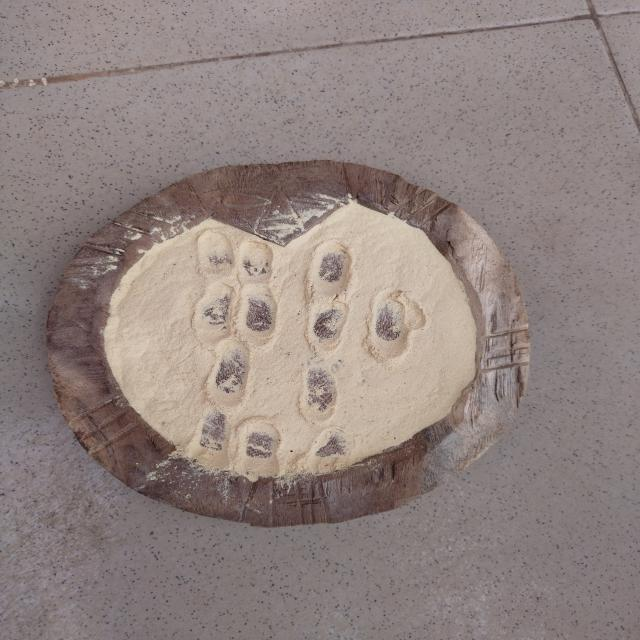double: (302, 292, 416, 358), (191, 412, 280, 472), (194, 284, 277, 348), (194, 230, 270, 286)
single: (200, 338, 255, 414), (304, 236, 356, 294), (296, 364, 339, 426), (305, 426, 350, 468)
